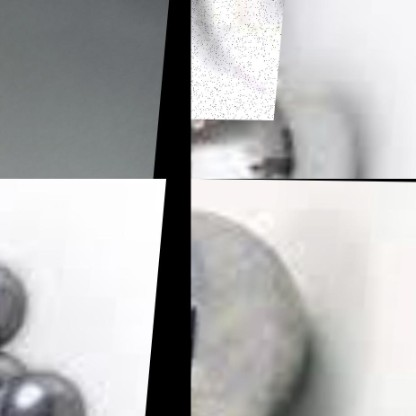ironball: (190, 205, 340, 415), (190, 65, 386, 178), (0, 247, 49, 343), (0, 378, 99, 415)
